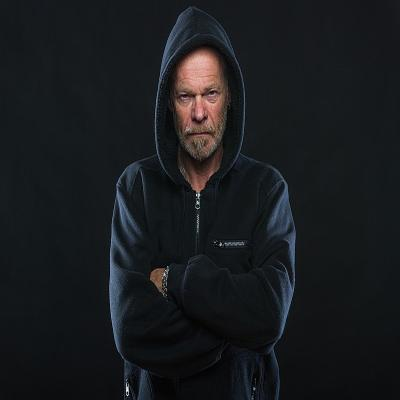angry: (172, 52, 228, 154)
